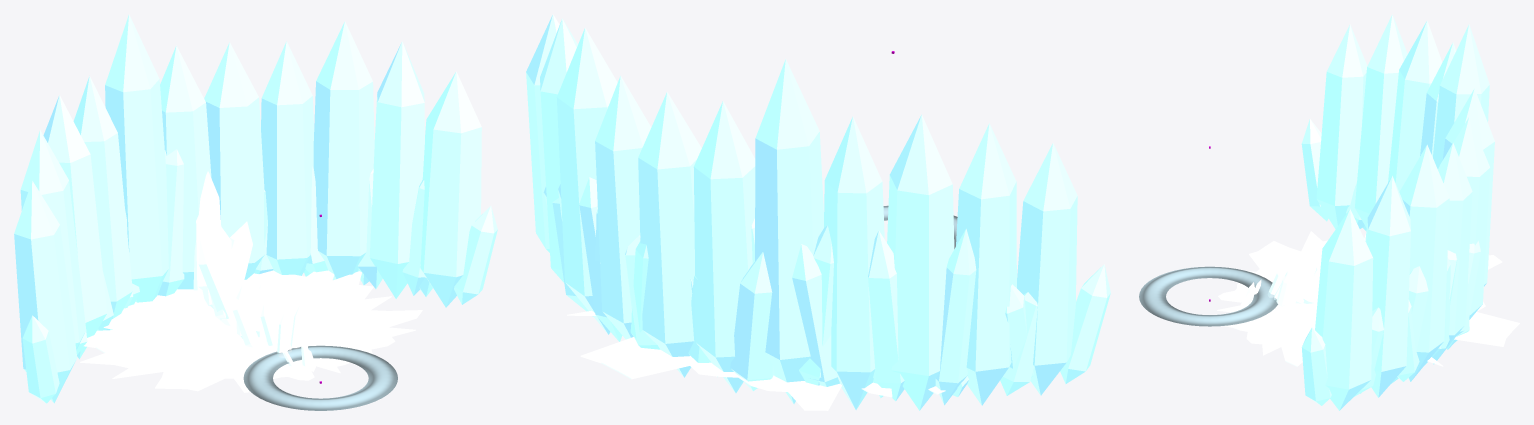
The model's file is IceUltimate.fbx.
3 renders of one model, left to right at view 1: azimuth 30°, elevation 25°; view 2: azimuth 150°, elevation 25°; view 3: azimuth 270°, elevation 25°, orthographic. The views are drawn at different scales.
Visible parts, largest first — view 1: Frost, Wall_05, Wall_09, Wall_11, Wall_10, Wall_08, Wall_01, Wall_07, Wall_04, Wall_06, Wall_03, Shockwave (+7 smaller); view 2: Wall_03, Wall_05, Wall_06, Wall_04, Wall_01, Wall_07, Wall_02, Wall_08, Wall_09, Frost, Wall_10, Wall_11; view 3: Wall_11, Frost, Wall_01, Wall_10, Wall_09, Wall_02, Wall_08, Wall_03, Shockwave, Wall_05, Wall_07, Wall_06 (+3 smaller).
Part boxes in pixels (x1=…): Frost: x1=80, y1=270, x2=422, y2=392; Wall_05: x1=105, y1=14, x2=184, y2=305; Wall_09: x1=305, y1=21, x2=374, y2=285; Wall_11: x1=419, y1=71, x2=497, y2=307; Wall_10: x1=357, y1=41, x2=425, y2=298; Wall_08: x1=261, y1=41, x2=314, y2=276; Wall_01: x1=14, y1=180, x2=77, y2=403; Wall_07: x1=204, y1=42, x2=273, y2=279; Wall_04: x1=73, y1=76, x2=133, y2=330; Wall_06: x1=160, y1=45, x2=211, y2=289; Wall_03: x1=43, y1=95, x2=107, y2=359; Shockwave: x1=243, y1=345, x2=397, y2=410; Wall_03: x1=868, y1=114, x2=976, y2=410; Wall_05: x1=751, y1=59, x2=833, y2=403; Wall_06: x1=690, y1=101, x2=774, y2=392; Wall_04: x1=792, y1=116, x2=884, y2=409; Wall_01: x1=1005, y1=143, x2=1110, y2=395; Wall_07: x1=625, y1=92, x2=711, y2=377; Wall_02: x1=953, y1=123, x2=1037, y2=405; Wall_08: x1=579, y1=75, x2=651, y2=341; Wall_09: x1=552, y1=27, x2=617, y2=334; Frost: x1=567, y1=310, x2=945, y2=410; Wall_10: x1=540, y1=18, x2=577, y2=282; Wall_11: x1=526, y1=14, x2=559, y2=252; Wall_11: x1=1301, y1=209, x2=1383, y2=410; Frost: x1=1217, y1=231, x2=1519, y2=366; Wall_01: x1=1301, y1=24, x2=1367, y2=229; Wall_10: x1=1360, y1=176, x2=1428, y2=397; Wall_09: x1=1397, y1=144, x2=1457, y2=381; Wall_02: x1=1354, y1=14, x2=1407, y2=230; Wall_08: x1=1432, y1=142, x2=1480, y2=364; Wall_03: x1=1388, y1=20, x2=1442, y2=191; Shockwave: x1=1139, y1=266, x2=1277, y2=326; Wall_05: x1=1433, y1=24, x2=1489, y2=168; Wall_07: x1=1439, y1=117, x2=1490, y2=341; Wall_06: x1=1442, y1=88, x2=1494, y2=286.
Size of the model in its own units: 29.66 by 18.13 by 22.59.
